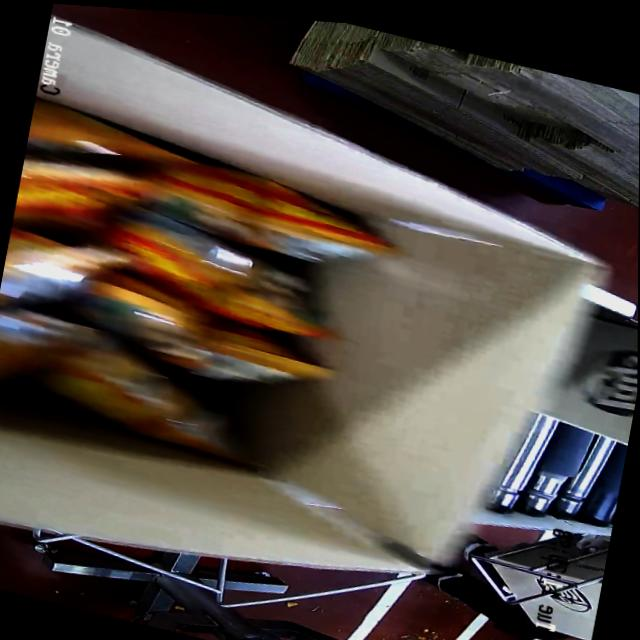FRENCH_CHEESE: (0, 78, 380, 494)
